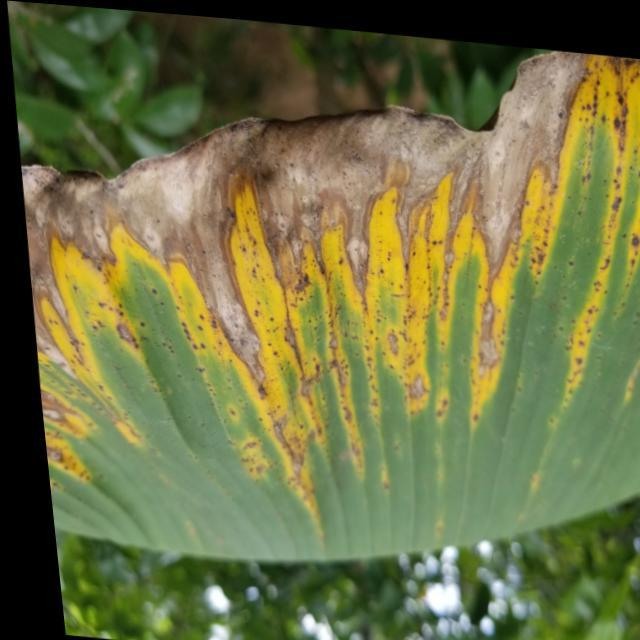Early_rust: (2, 1, 640, 573)
